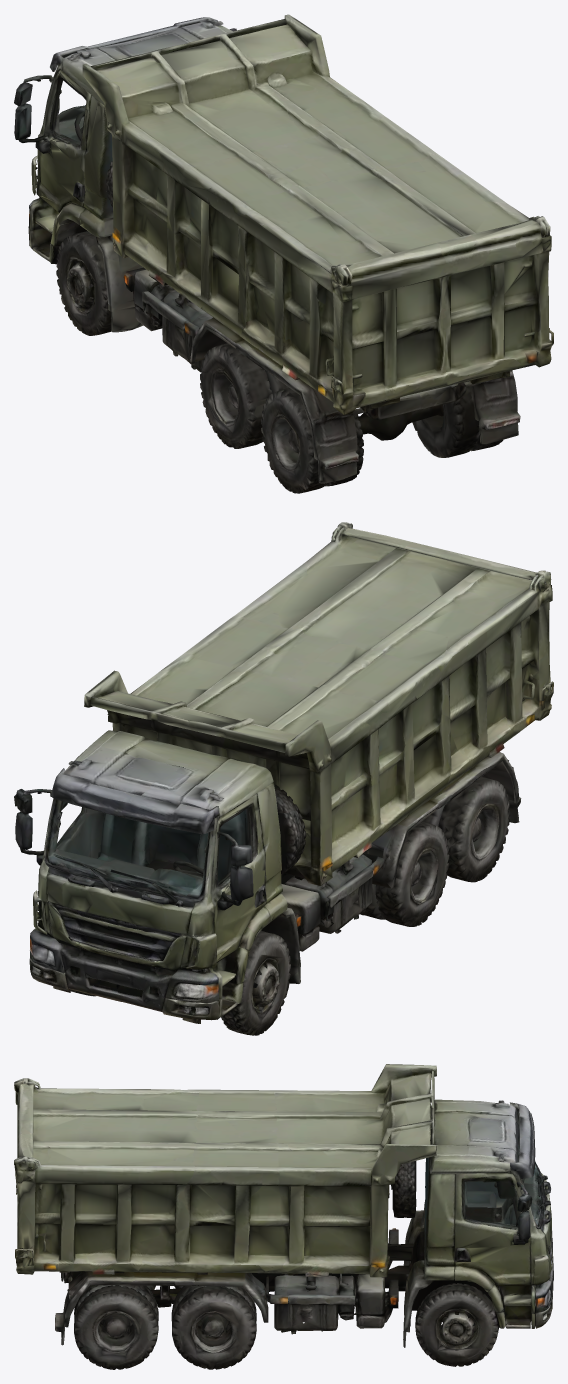
Rendered from basculante_lod0.glb.
The picture shows the model from 3 angles, top to bottom: view 1: azimuth 30°, elevation 25°; view 2: azimuth 150°, elevation 25°; view 3: azimuth 270°, elevation 25°; orthographic projection. The views are drawn at different scales.
Parts seen in each view (by area): view 1: tripo_node_36eae677-543f-4262-af6e-dee0c639f2cb; view 2: tripo_node_36eae677-543f-4262-af6e-dee0c639f2cb; view 3: tripo_node_36eae677-543f-4262-af6e-dee0c639f2cb.
Part boxes in pixels (<box>): tripo_node_36eae677-543f-4262-af6e-dee0c639f2cb: <box>14,14,553,493</box>; tripo_node_36eae677-543f-4262-af6e-dee0c639f2cb: <box>14,522,553,1035</box>; tripo_node_36eae677-543f-4262-af6e-dee0c639f2cb: <box>14,1064,553,1369</box>.
Bounding box in the file's own units: 3.46 × 3.94 × 8.5.
Materials: 1 (1 with a texture image).
